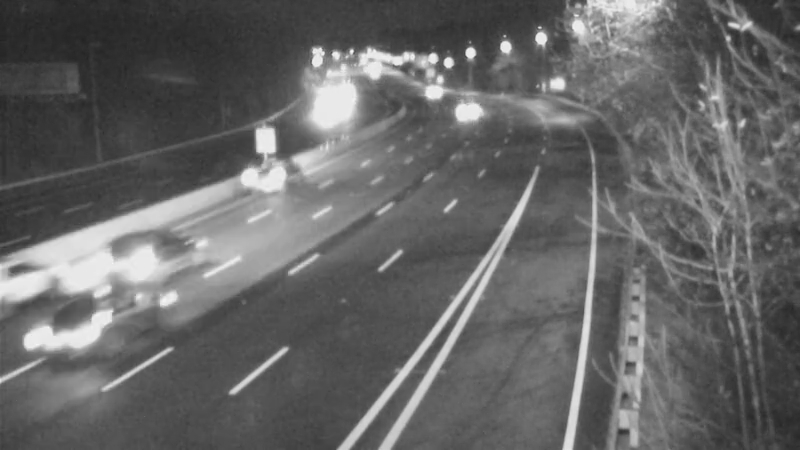vehicle: (14, 283, 124, 393), (224, 131, 304, 211), (87, 210, 167, 290), (1, 250, 68, 330), (411, 68, 461, 118), (439, 77, 489, 127)
